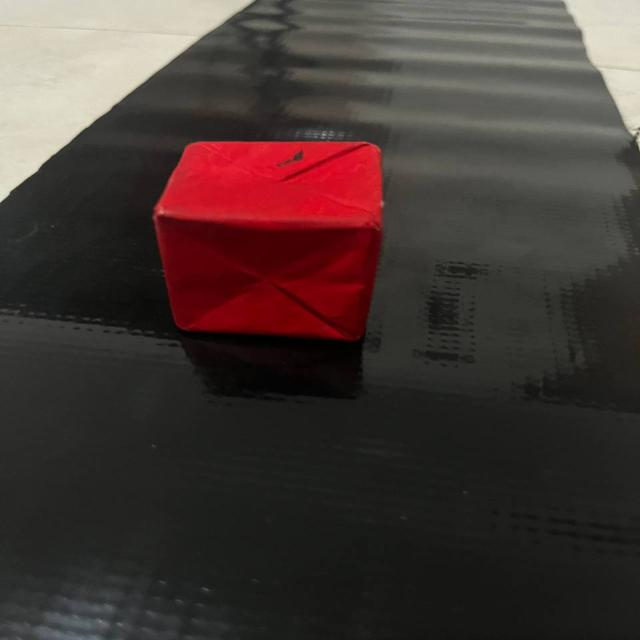Rojo: (143, 121, 405, 359)
